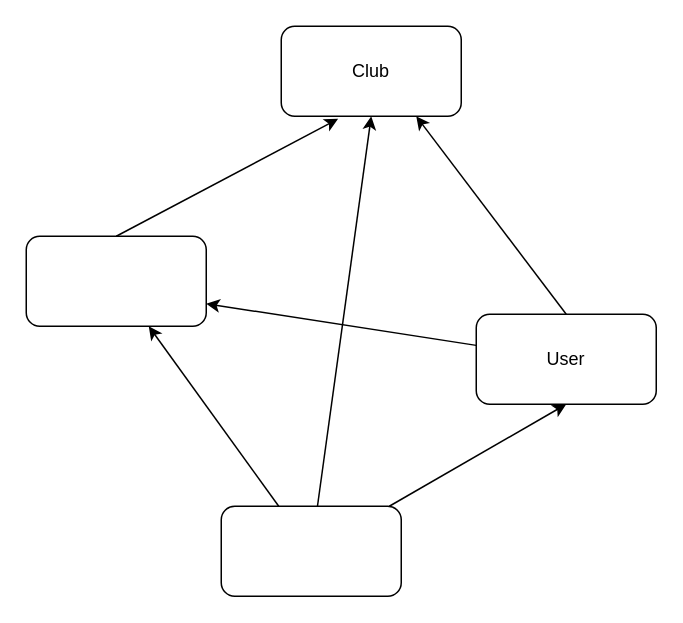
Image size: 683x623. Some labels were removed from this diagram. Each missing label, with the box of its shape:
Role: (220, 505, 401, 596)
Tank: (25, 235, 206, 326)
